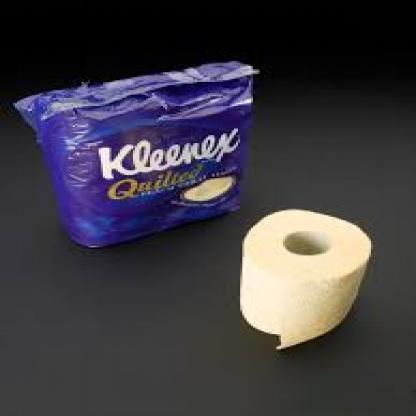tissue: (240, 204, 367, 353)
